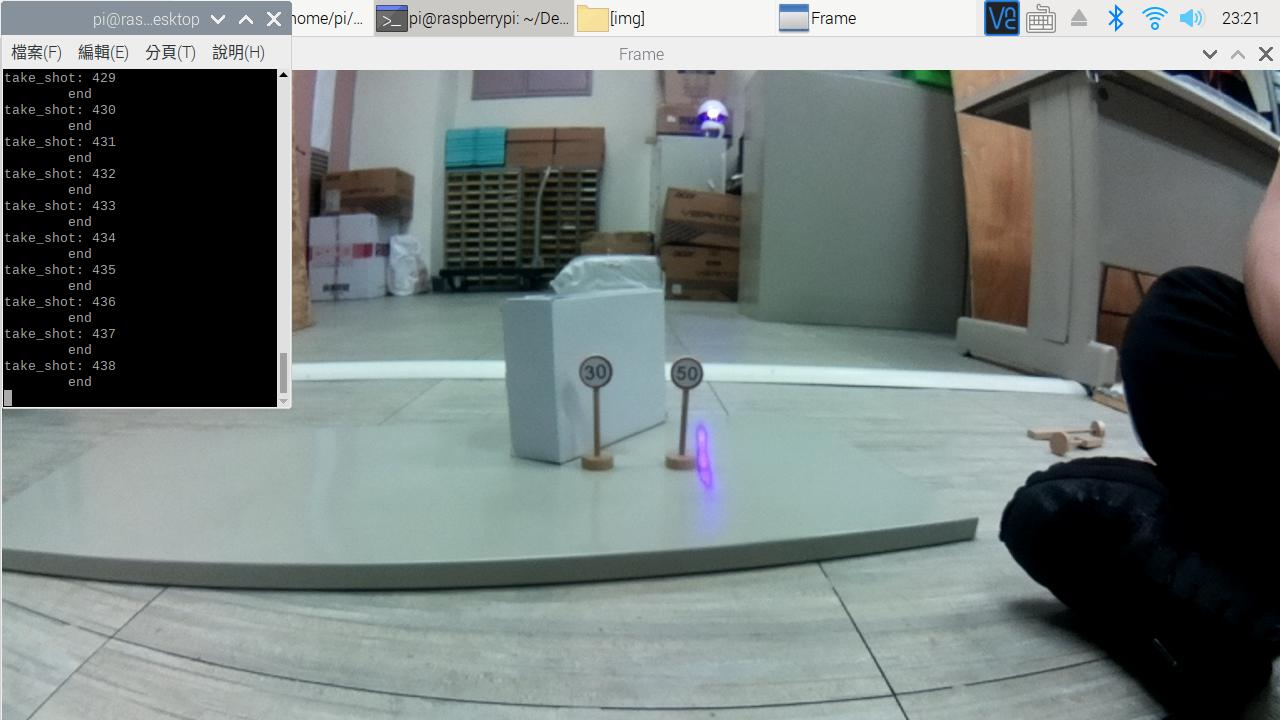Speed30: (560, 344, 633, 401)
Speed50: (659, 342, 721, 405)
